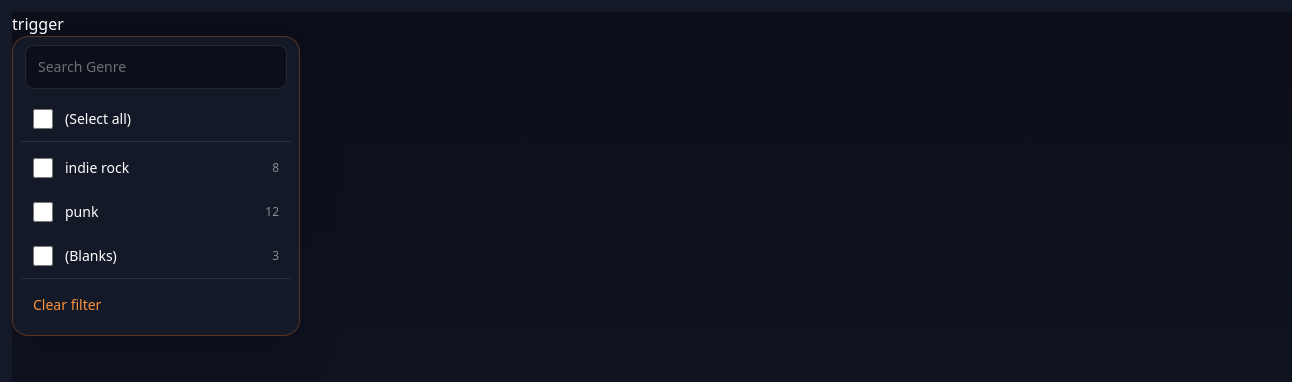
Test: ColumnFilter › renders an empty-state row when the search matches nothing
Type "zzz-no-match" into the field at (156, 67), box [25, 45, 287, 89]
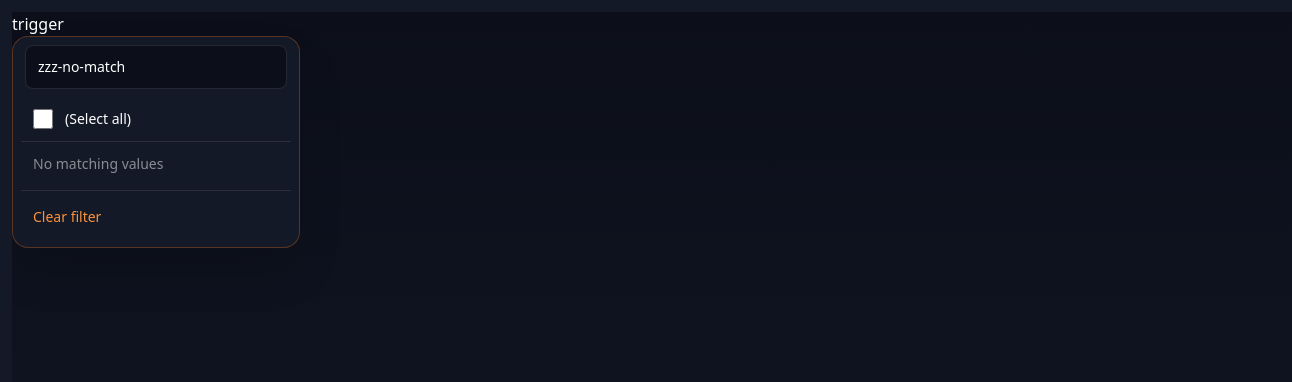
Check: the text "No matching values" is shown, box [33, 154, 164, 173]
